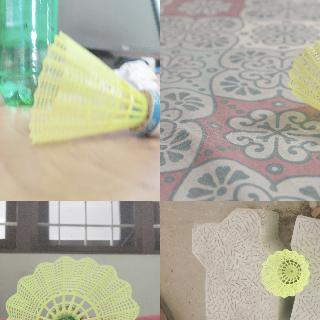shuttlecock: (29, 31, 159, 146), (1, 256, 139, 319), (287, 38, 319, 142), (260, 249, 310, 297)
